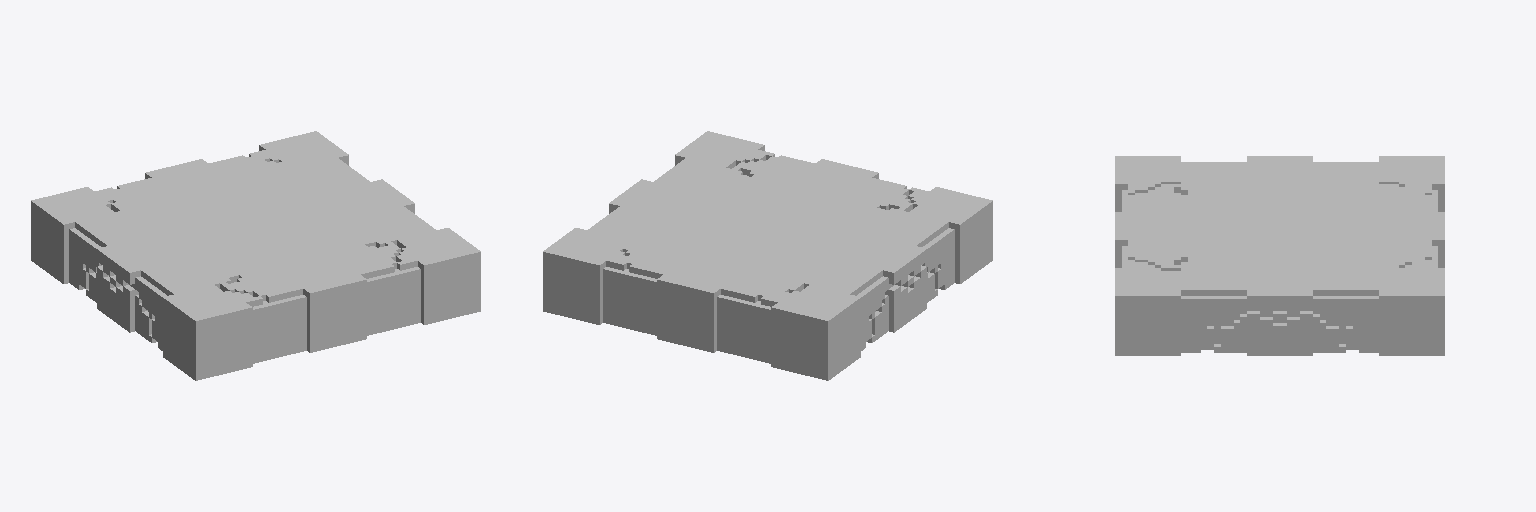
Rendered from Floor_Boss.obj.
3 views of the same model, side by side, from view 1: azimuth 30°, elevation 25°; view 2: azimuth 150°, elevation 25°; view 3: azimuth 270°, elevation 25° (orthographic).
Parts seen in each view (by area): view 1: Floor_Boss; view 2: Floor_Boss; view 3: Floor_Boss.
Part boxes in pixels (left/top/right/bottom): Floor_Boss: left=31, top=131, right=480, bottom=380; Floor_Boss: left=543, top=131, right=992, bottom=380; Floor_Boss: left=1115, top=156, right=1444, bottom=355.
Size of the model in its own units: 5 by 1 by 5.